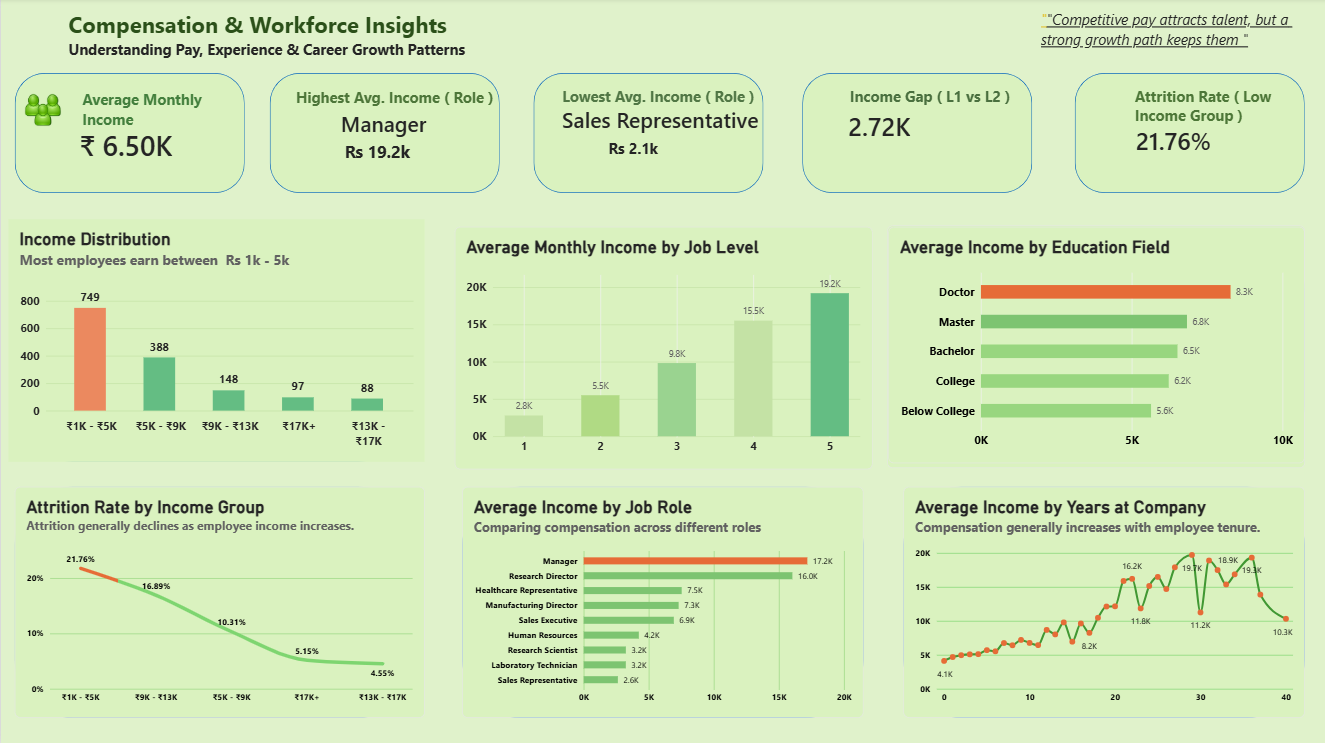

Layout of this report page (visuals, bound fields, positions):
{"tool":"powerbi","page":{"name":"Compensation & Workforce Insights","canvas":[1920,1080],"ordinal":2},"visuals":[{"type":"textbox","box":[97.7,16.3,624.3,92.3],"z":0},{"type":"textbox","box":[1505.6,16.3,394.5,92.3],"z":1000},{"type":"shape","box":[19.9,108.6,333,173.7],"z":2000},{"type":"shape","box":[389.1,108.6,333,173.7],"z":3000},{"type":"shape","box":[770.9,108.6,333,173.7],"z":4000},{"type":"shape","box":[1160,108.6,333,173.7],"z":5000},{"type":"shape","box":[1554.5,108.6,333,173.7],"z":6000},{"type":"shape","box":[19.9,336.6,580.9,334.8],"z":7000},{"type":"shape","box":[667.8,336.6,580.9,334.8],"z":8000},{"type":"shape","box":[1306.6,338.4,580.9,334.8],"z":9000},{"type":"shape","box":[19.9,707.6,580.9,334.8],"z":10000},{"type":"shape","box":[667.8,707.6,580.9,334.8],"z":11000},{"type":"shape","box":[1306.6,707.6,580.9,334.8],"z":12000},{"type":"textbox","box":[117.6,132.1,249.7,63.3],"z":13000},{"type":"textbox","box":[427.1,128.5,309.5,54.3],"z":14000},{"type":"textbox","box":[812.5,126.7,316.7,56.1],"z":15000},{"type":"textbox","box":[1228.8,126.7,289.5,56.1],"z":16000},{"type":"textbox","box":[1641.4,126.7,211.7,83.2],"z":17000},{"type":"cardVisual","fields":{"Data":["Total.Average Monthly Income"]},"box":[97.7,168.3,177.3,88.7],"z":18000},{"type":"clusteredColumnChart","title":"Income Distribution","fields":{"Category":["Total.Income Group"],"Y":["Total.Total Employees Count"]},"box":[10.9,320.3,602.6,351.1],"z":19000},{"type":"clusteredColumnChart","title":"Average Monthly Income by Job Level","fields":{"Category":["Total.JobLevel"],"Y":["Avg(Total.MonthlyIncome)"]},"box":[656.9,331.2,604.4,351.1],"z":20000},{"type":"scatterChart","title":"Income vs Attrition","fields":{"X":["Total.Average Monthly Income"],"Y":["Total.Attrition Rate"],"Category":["Total.Income Group"]},"box":[1283,329.4,604.4,351.1],"z":21000},{"type":"clusteredBarChart","title":"Average Income by Education Field","fields":{"Y":["Avg(Total.MonthlyIncome)"],"Category":["Total.Education"]},"box":[1284.9,331.2,602.6,342],"z":22000},{"type":"lineChart","title":"Attrition Rate by Income Group","fields":{"Category":["Total.Income Group"],"Y":["Total.Attrition Rate"]},"box":[19.9,707.6,593.6,334.8],"z":23000},{"type":"clusteredBarChart","title":"Average Income by Job Role","fields":{"Y":["Avg(Total.MonthlyIncome)"],"Category":["Total.JobRole"]},"box":[667.8,707.6,580.9,334.8],"z":24000},{"type":"lineChart","title":"Average Income by Years at Company","fields":{"Category":["Total.YearsAtCompany"],"Y":["Avg(Total.MonthlyIncome)"]},"box":[1306.6,707.6,580.9,334.8],"z":24001},{"type":"image","box":[23.5,114,74.2,95.9],"z":24002},{"type":"cardVisual","fields":{"Data":["Total.Highest Avg Income Role"]},"box":[475.9,144.8,213.5,74.2],"z":24003},{"type":"cardVisual","fields":{"Data":["Total.Lowest Avg Income Role"]},"box":[796.3,141.2,327.5,68.8],"z":24004},{"type":"cardVisual","fields":{"Data":["Total.Income Gap L1 vs L2"]},"box":[1210.7,150.2,162.9,68.8],"z":24005},{"type":"cardVisual","fields":{"Data":["Total.Low Income Attrition Rate"]},"box":[1626.9,162.9,190,85.1],"z":24006},{"type":"textbox","box":[497.7,206.3,115.8,63.3],"z":24007},{"type":"textbox","box":[879.5,202.7,114,45.2],"z":24008}]}

Visuals, with their boxes in screenshot pixels (x1, y1, x2, y2), scaled from the page's 1920x1080 canvas onto the 1325x743 screenshot:
textbox: Rect(67, 11, 498, 75)
textbox: Rect(1039, 11, 1311, 75)
shape: Rect(14, 75, 244, 194)
shape: Rect(269, 75, 498, 194)
shape: Rect(532, 75, 762, 194)
shape: Rect(801, 75, 1030, 194)
shape: Rect(1073, 75, 1303, 194)
shape: Rect(14, 232, 415, 462)
shape: Rect(461, 232, 862, 462)
shape: Rect(902, 233, 1303, 463)
shape: Rect(14, 487, 415, 717)
shape: Rect(461, 487, 862, 717)
shape: Rect(902, 487, 1303, 717)
textbox: Rect(81, 91, 253, 134)
textbox: Rect(295, 88, 508, 126)
textbox: Rect(561, 87, 779, 126)
textbox: Rect(848, 87, 1048, 126)
textbox: Rect(1133, 87, 1279, 144)
cardVisual - Total.Average Monthly Income: Rect(67, 116, 190, 177)
"Income Distribution" clusteredColumnChart: Rect(8, 220, 423, 462)
"Average Monthly Income by Job Level" clusteredColumnChart: Rect(453, 228, 870, 469)
"Income vs Attrition" scatterChart: Rect(885, 227, 1303, 468)
"Average Income by Education Field" clusteredBarChart: Rect(887, 228, 1303, 463)
"Attrition Rate by Income Group" lineChart: Rect(14, 487, 423, 717)
"Average Income by Job Role" clusteredBarChart: Rect(461, 487, 862, 717)
"Average Income by Years at Company" lineChart: Rect(902, 487, 1303, 717)
image: Rect(16, 78, 67, 144)
cardVisual - Total.Highest Avg Income Role: Rect(328, 100, 476, 151)
cardVisual - Total.Lowest Avg Income Role: Rect(550, 97, 776, 144)
cardVisual - Total.Income Gap L1 vs L2: Rect(836, 103, 948, 151)
cardVisual - Total.Low Income Attrition Rate: Rect(1123, 112, 1254, 171)
textbox: Rect(343, 142, 423, 185)
textbox: Rect(607, 139, 686, 171)
